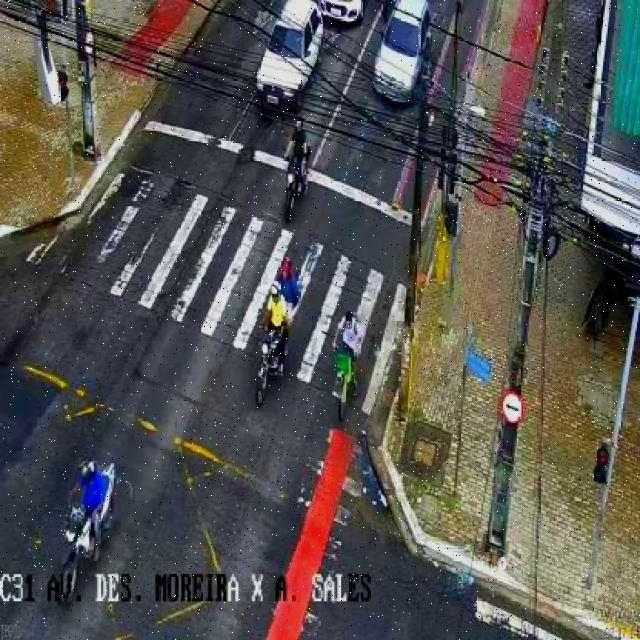Car: (252, 0, 327, 112), (372, 0, 438, 103), (314, 0, 372, 27)
Cycle: (59, 461, 120, 604), (247, 322, 294, 404), (281, 142, 315, 219), (329, 351, 364, 423)
